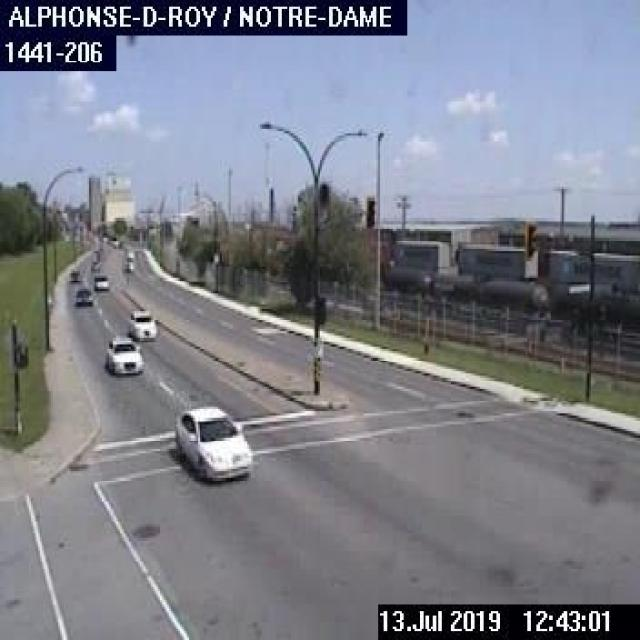vehicle: (171, 402, 253, 480), (102, 335, 144, 371), (127, 306, 158, 341), (73, 284, 93, 306), (91, 271, 108, 292), (65, 266, 83, 283), (122, 260, 134, 274), (124, 247, 135, 259)
